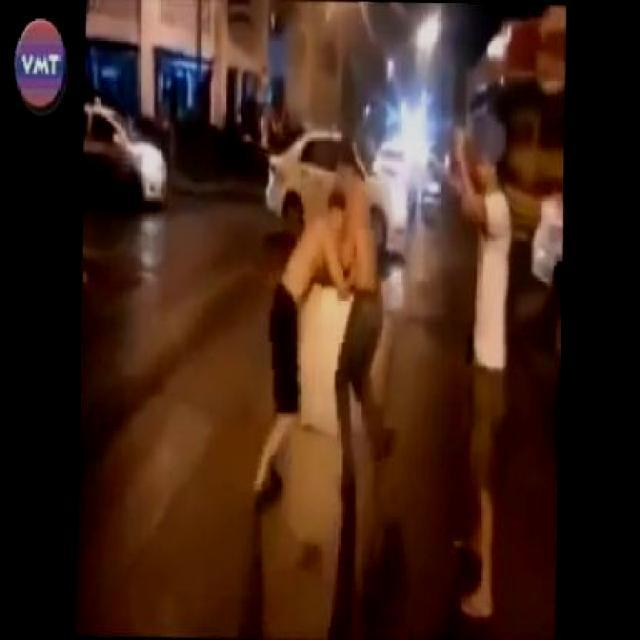fight: (264, 132, 394, 500)
